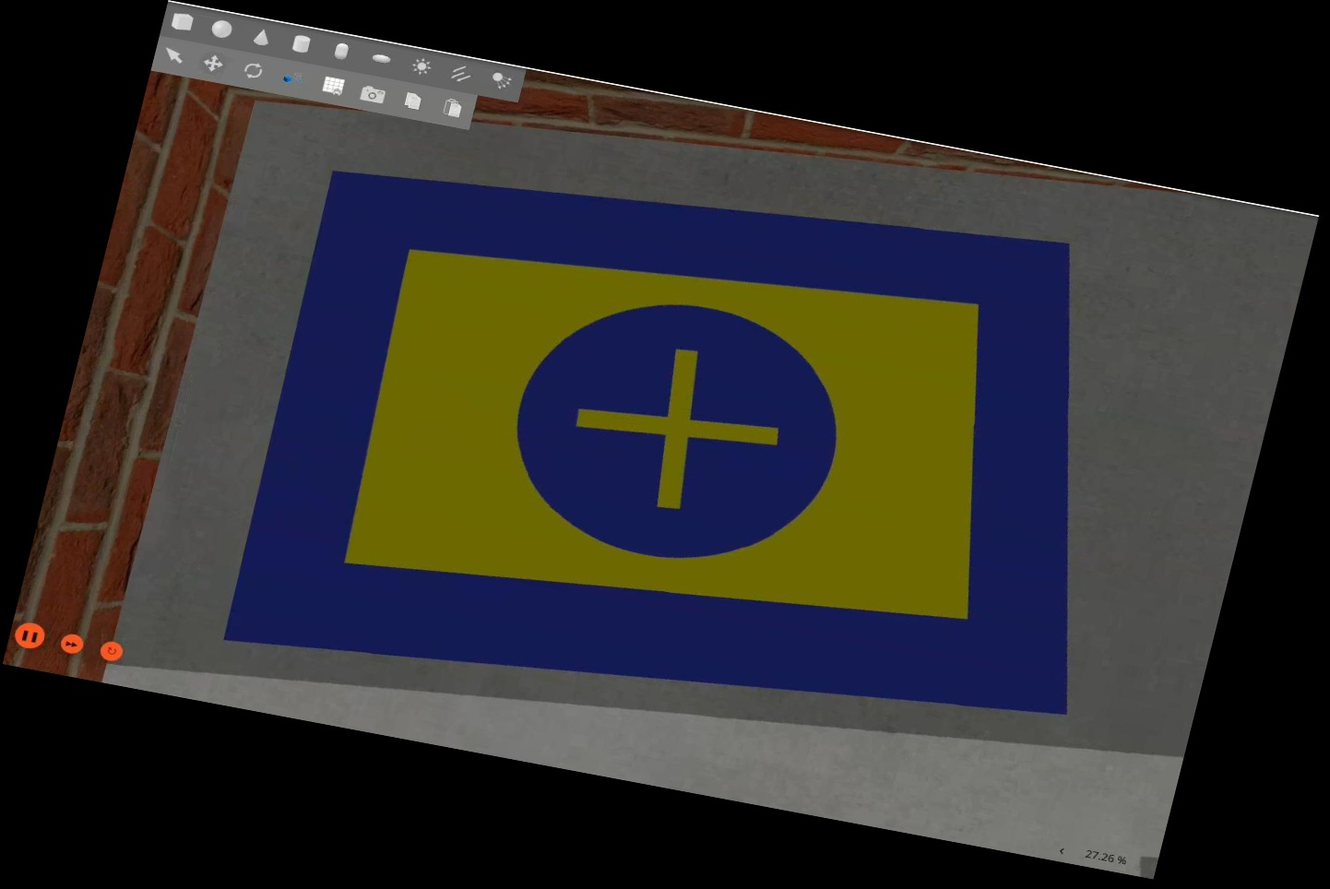large_base: (213, 106, 1178, 795)
